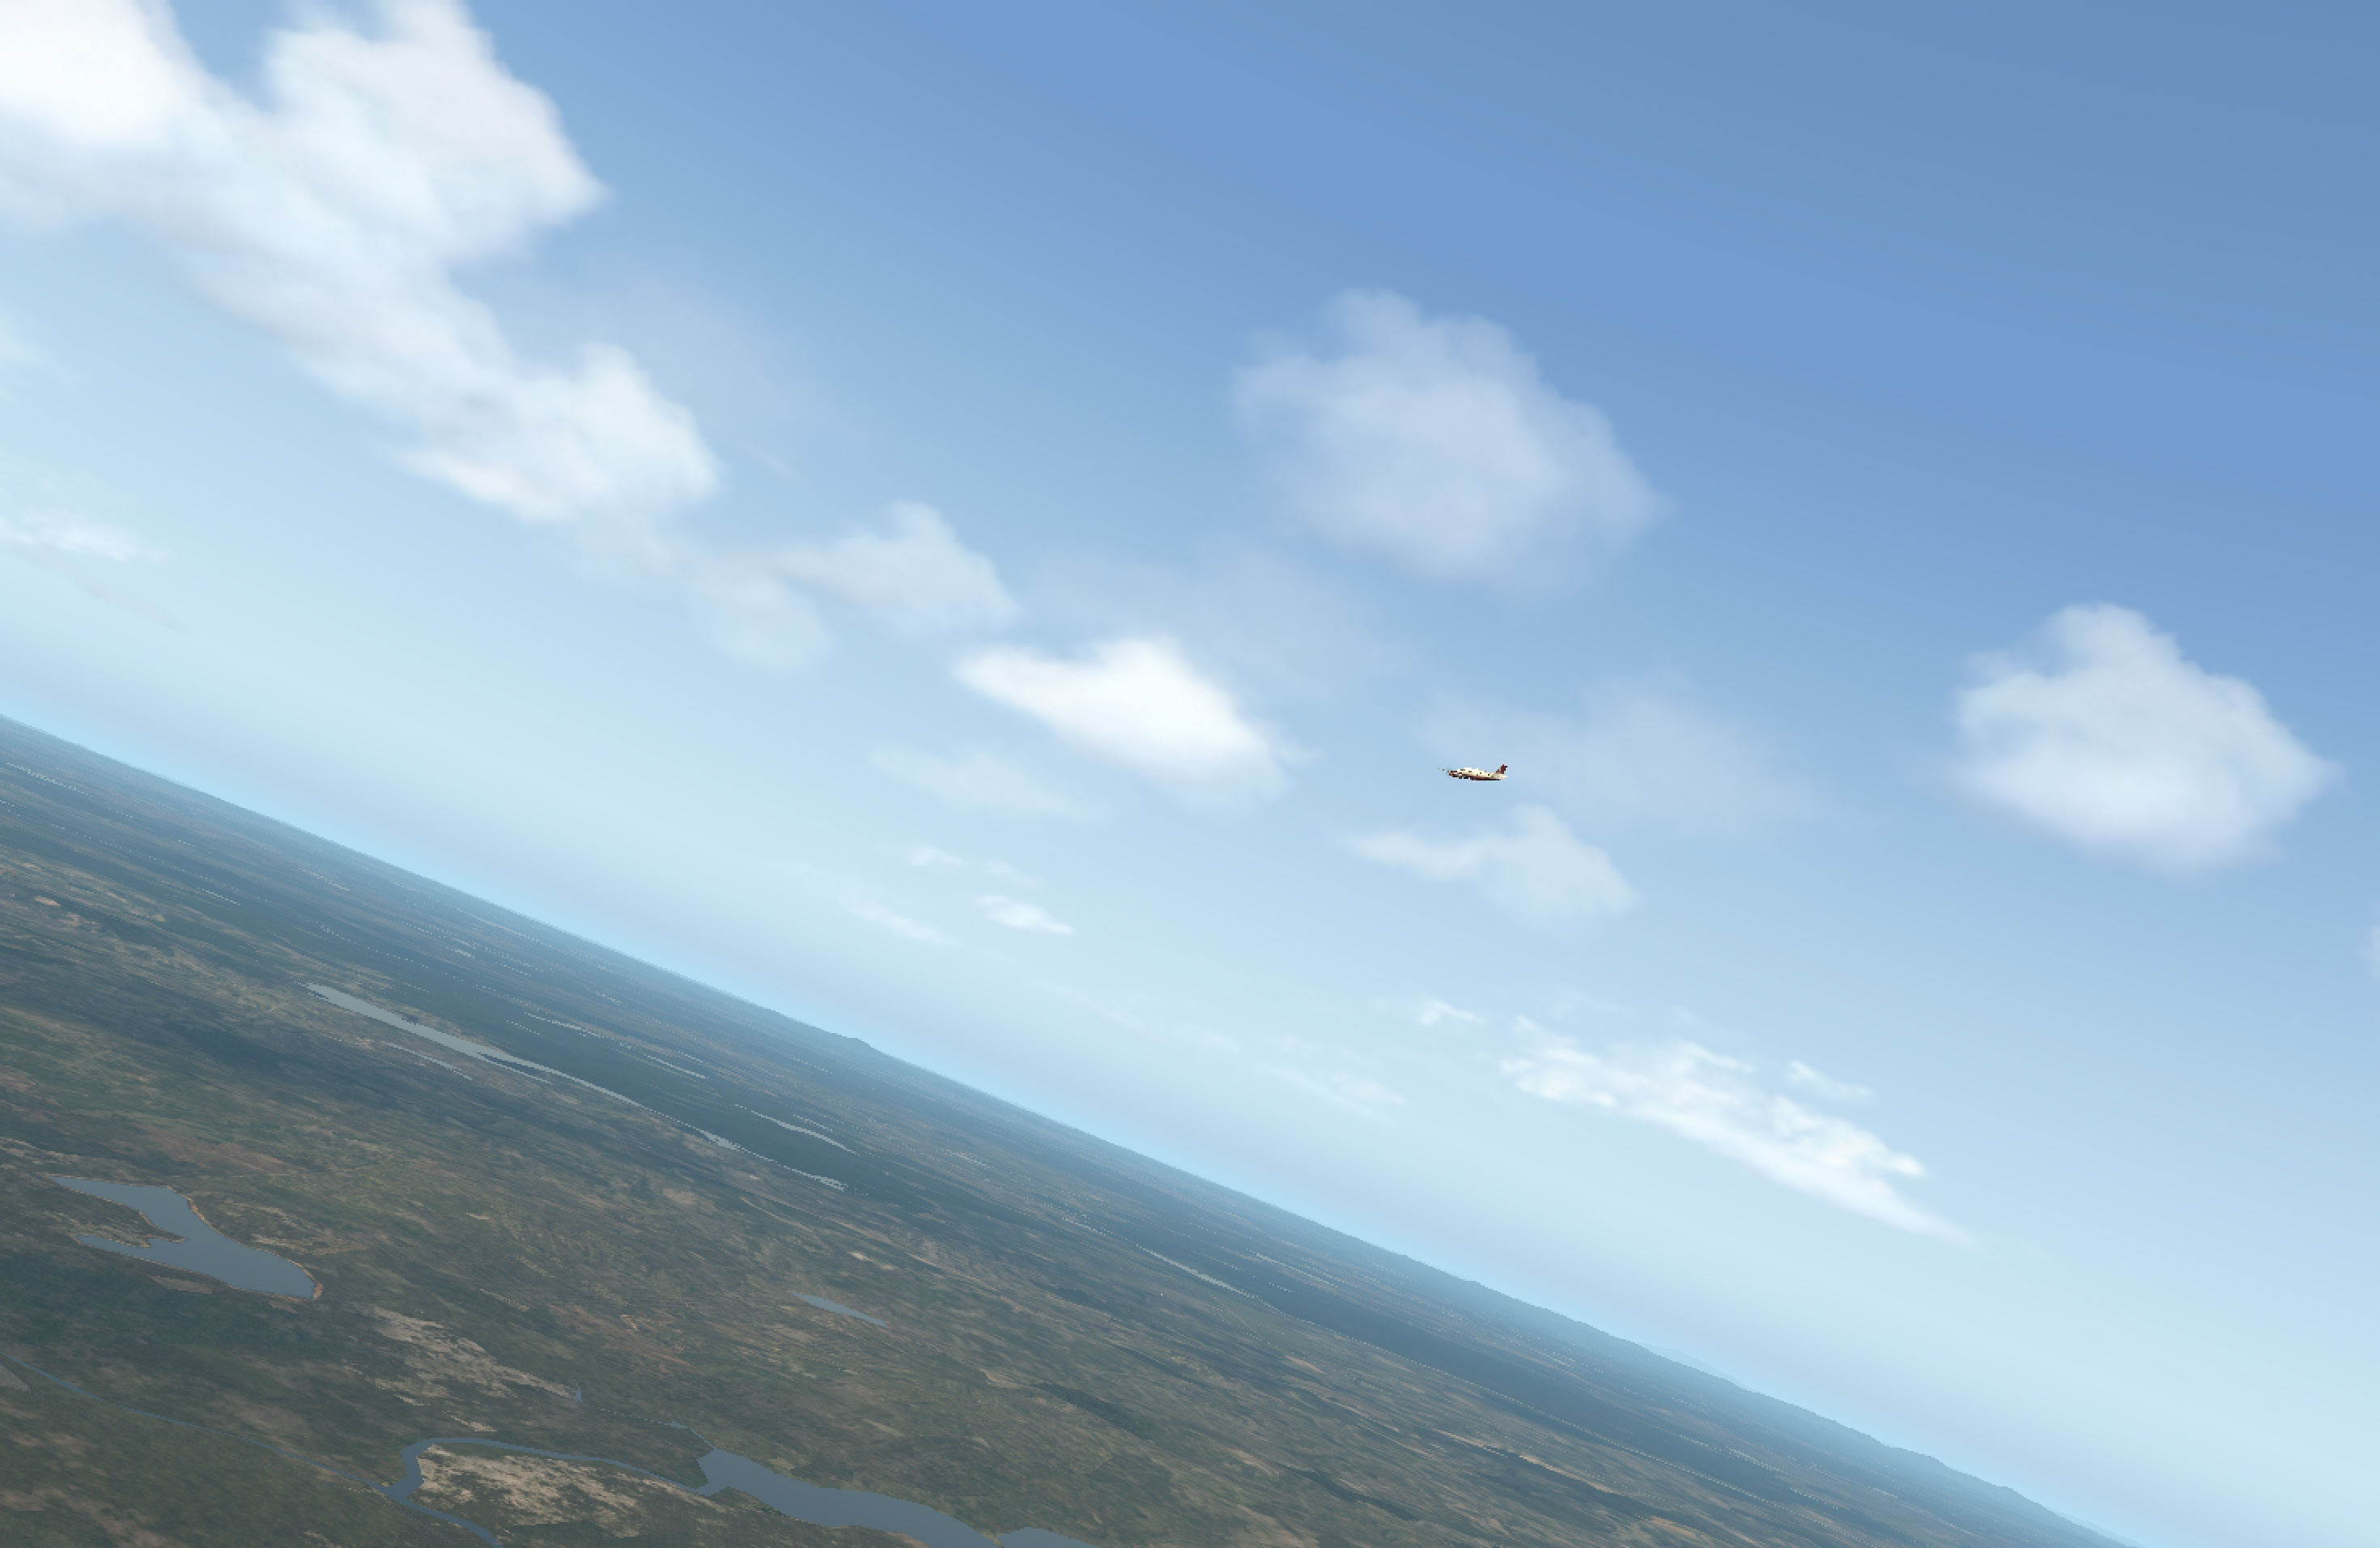aircraft: (1421, 760, 1516, 797)
